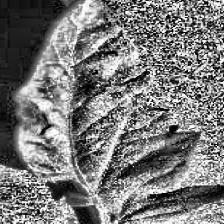disease: (15, 0, 224, 224)
